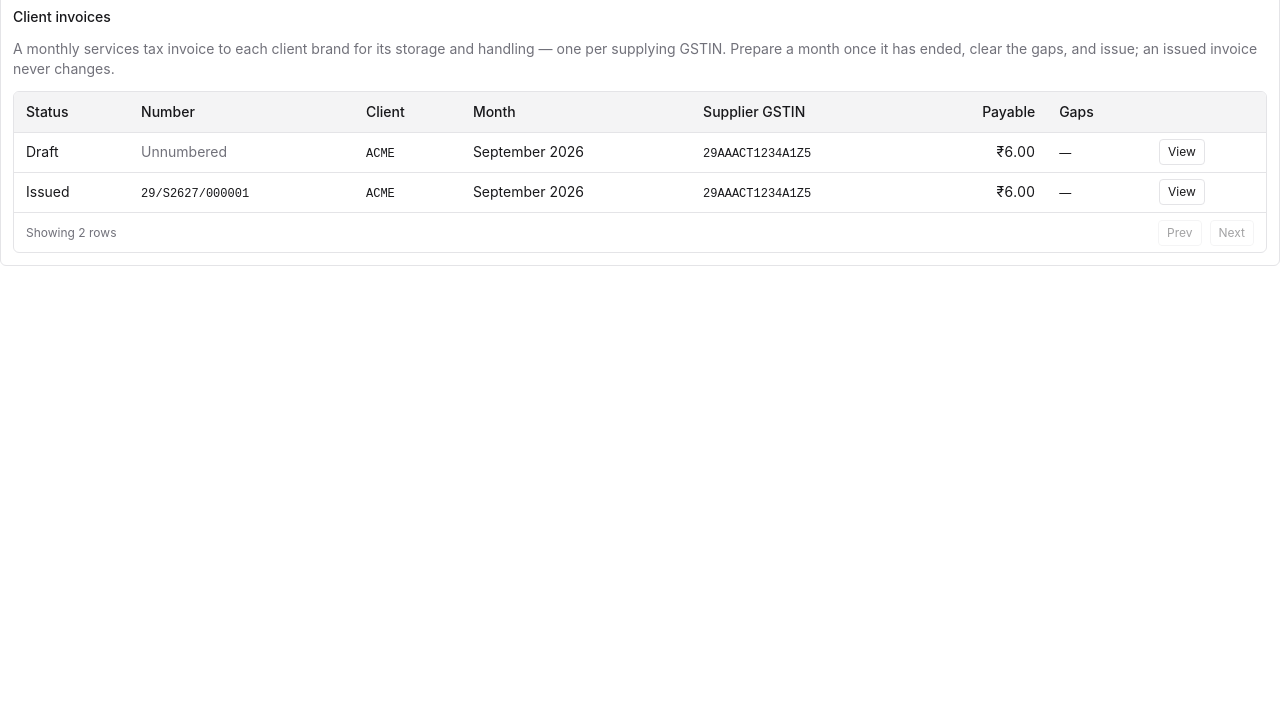
Test case: ClientInvoices › an ops manager reads the list and the printed invoice, and is offered no mutating affordance
Click the button "View" in the row of "Draft" at (1182, 152), box [1159,139,1205,165]
(page scrolled)
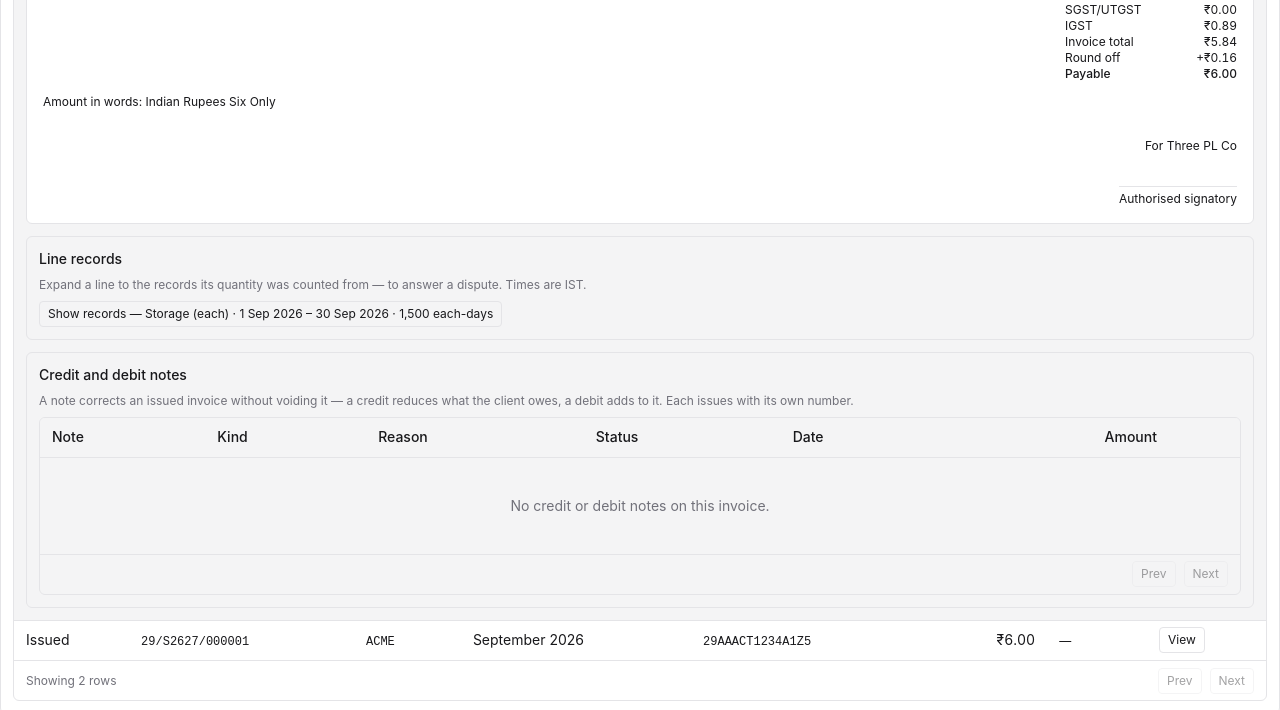
Click the button "View" at (1182, 640), box [1159,627,1205,653]
(page scrolled)
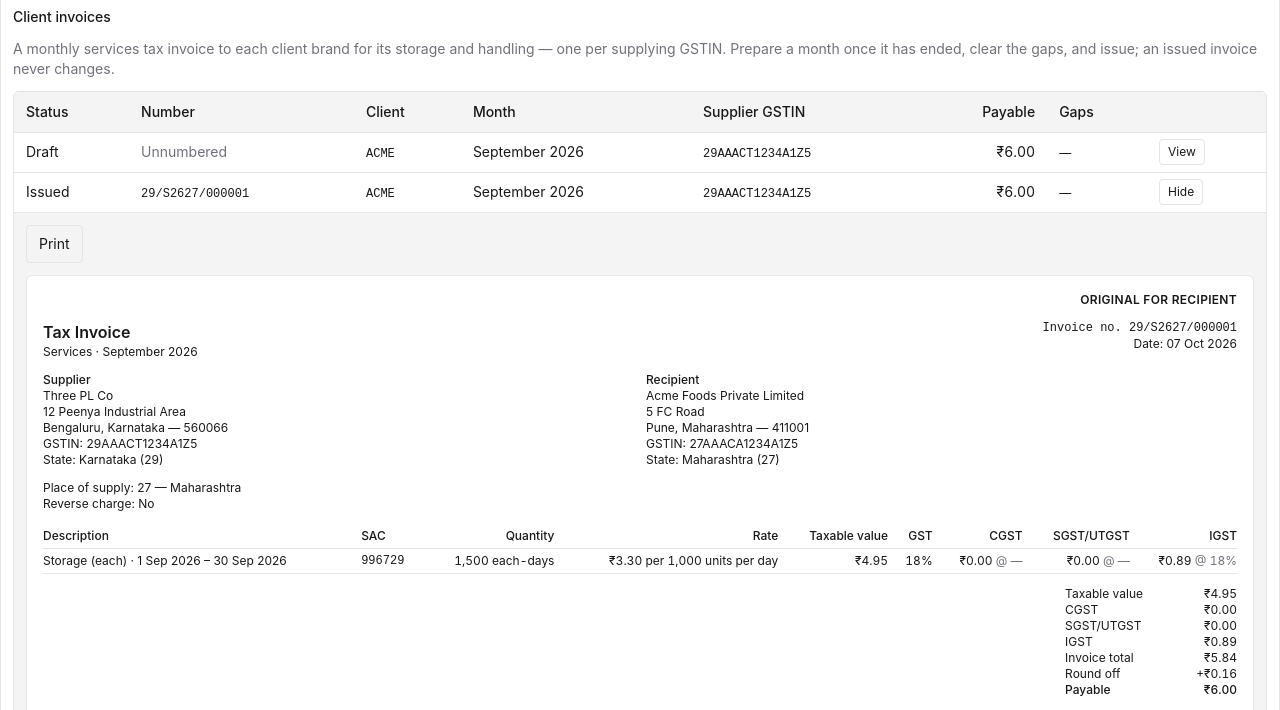
Expected: the heading "Tax Invoice" is shown, [43,322,130,342]
